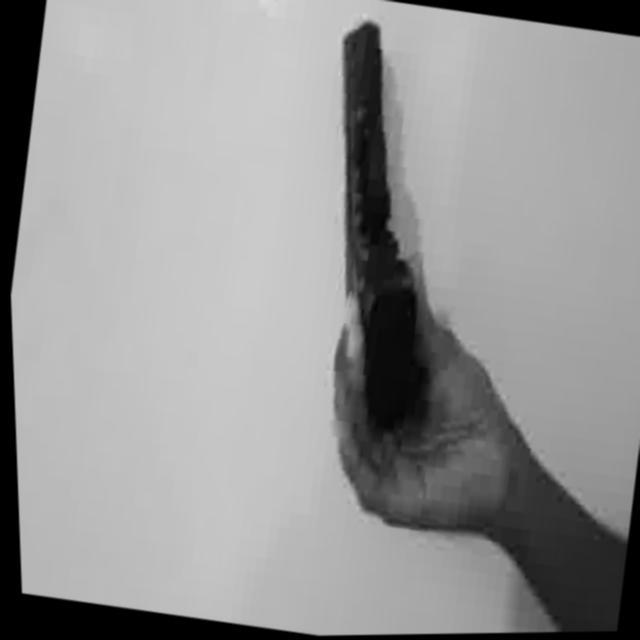weapon: (280, 15, 478, 444)
